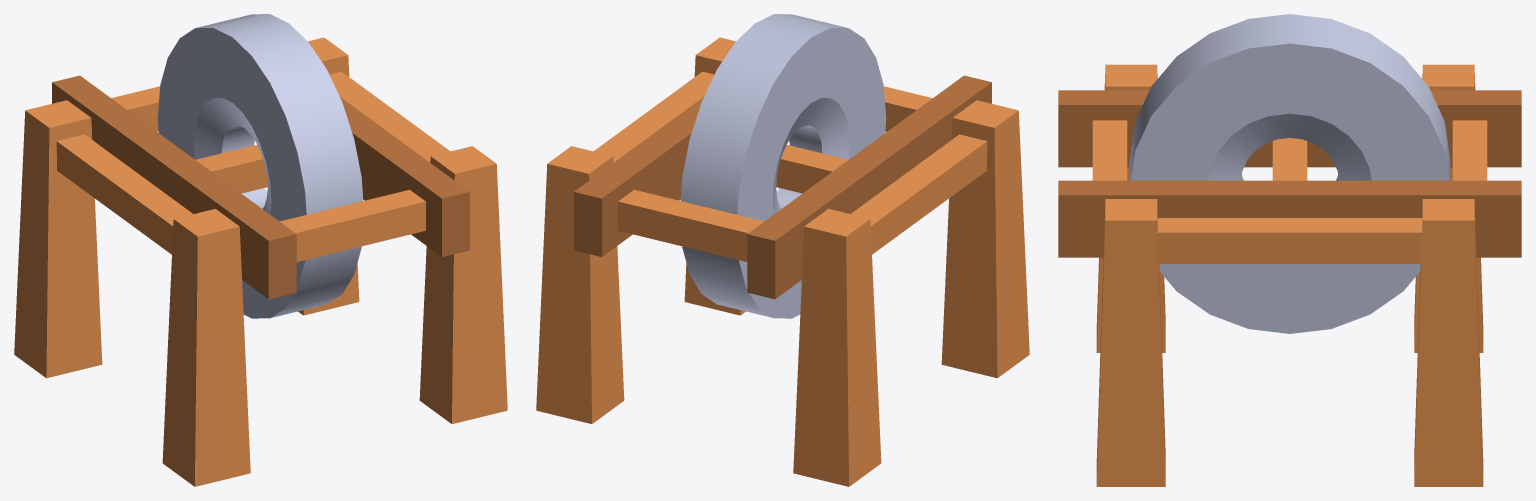
The model's file is Workbench Grind.glb.
3 renders of one model, left to right at view 1: azimuth 30°, elevation 25°; view 2: azimuth 150°, elevation 25°; view 3: azimuth 270°, elevation 25°, orthographic. The views are drawn at different scales.
Visible parts, largest first — view 1: workbenchGrind; view 2: workbenchGrind; view 3: workbenchGrind.
Part boxes in pixels (bbox=[...]): workbenchGrind: bbox=[14, 14, 507, 486]; workbenchGrind: bbox=[536, 14, 1029, 486]; workbenchGrind: bbox=[1058, 14, 1521, 486].
Size of the model in its own units: 0.2604 by 0.2801 by 0.3125.
